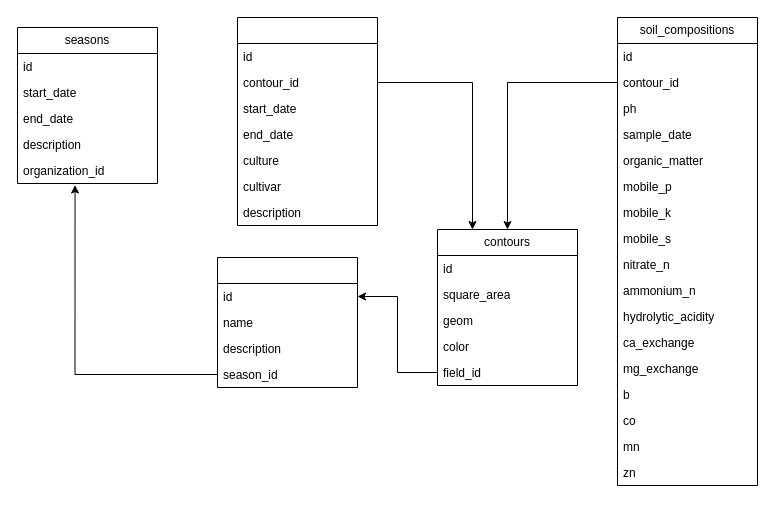
The diagram is 775 pixels wide and 506 high, and some of its shapes have lost their labels. The box of each missing label's shape, as (x1, y1, x2, y2) in pixels:
crop_rotations: (236, 16, 378, 226)
fields: (216, 256, 358, 388)
